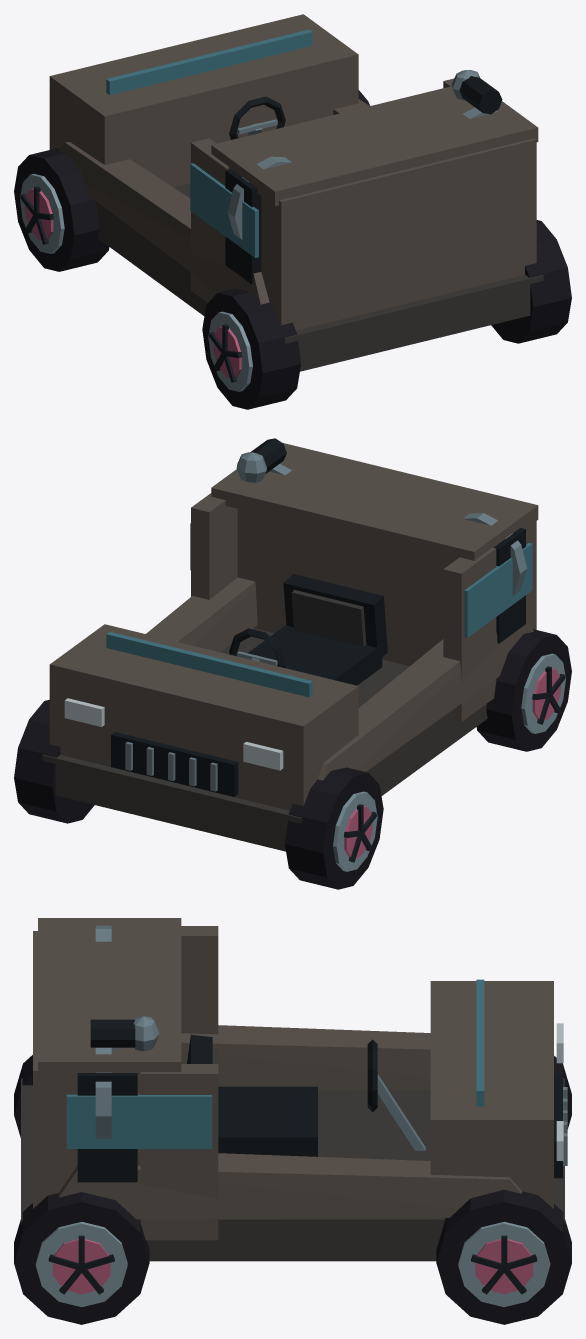
Rendered from kart.glb.
The picture shows the model from 3 angles, top to bottom: view 1: azimuth 30°, elevation 25°; view 2: azimuth 150°, elevation 25°; view 3: azimuth 270°, elevation 25°; orthographic projection. The views are drawn at different scales.
Visible parts, largest first — view 1: identity-van-van-utility-body, wheel-rear-left, wheel-front-left, wheel-rear-right, identity-van-motif-speakers, identity-van-motif-microphone, identity-van-motif-film, identity-van-driver-cockpit; view 2: identity-van-van-utility-body, identity-van-driver-cockpit, wheel-front-left, wheel-rear-left, wheel-front-right, identity-van-motif-speakers, identity-van-motif-microphone, identity-van-motif-film; view 3: identity-van-van-utility-body, wheel-front-right, wheel-rear-right, identity-van-driver-cockpit, identity-van-motif-speakers, identity-van-motif-microphone, identity-van-motif-film, wheel-rear-left.
Part boxes in pixels (box(x1,y1,x2,y2)): identity-van-van-utility-body: box(49, 14, 543, 371); wheel-rear-left: box(202, 288, 300, 409); wheel-front-left: box(14, 148, 109, 271); wheel-rear-right: box(491, 220, 571, 343); identity-van-motif-speakers: box(225, 169, 261, 284); identity-van-motif-microphone: box(452, 70, 502, 114); identity-van-motif-film: box(227, 107, 497, 239); identity-van-driver-cockpit: box(229, 96, 285, 139); identity-van-van-utility-body: box(42, 443, 538, 851); identity-van-driver-cockpit: box(229, 574, 387, 685); wheel-front-left: box(285, 767, 383, 889); wheel-rear-left: box(476, 629, 571, 751); wheel-front-right: box(14, 699, 94, 823); identity-van-motif-speakers: box(494, 528, 525, 643); identity-van-motif-microphone: box(236, 438, 286, 482); identity-van-motif-film: box(269, 464, 526, 595); identity-van-van-utility-body: box(21, 918, 567, 1261); wheel-front-right: box(436, 1189, 571, 1324); wheel-rear-right: box(14, 1192, 149, 1324); identity-van-driver-cockpit: box(187, 1034, 425, 1156); identity-van-motif-speakers: box(77, 1073, 137, 1182); identity-van-motif-microphone: box(90, 1016, 159, 1051); identity-van-motif-film: box(95, 925, 111, 1139); wheel-rear-left: box(14, 1055, 32, 1137).
Size of the model in its own units: 2.13 by 1.57 by 2.8.
